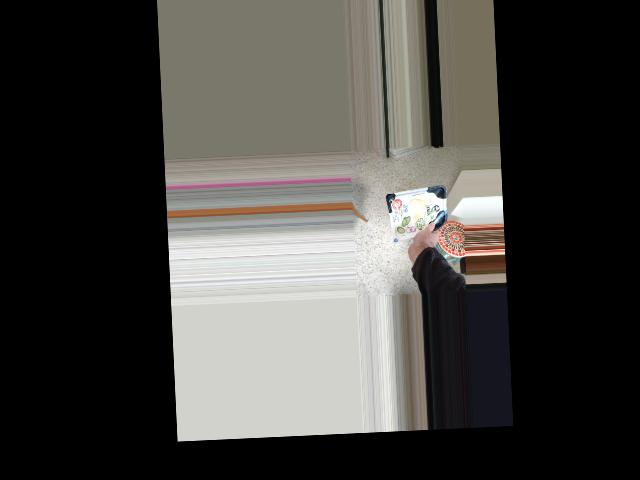cheese: (387, 202, 440, 251)
